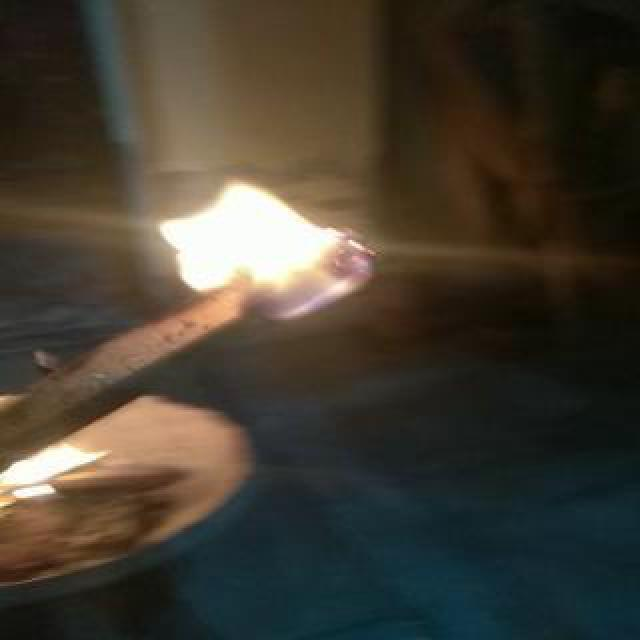Fire: (155, 182, 338, 291)
